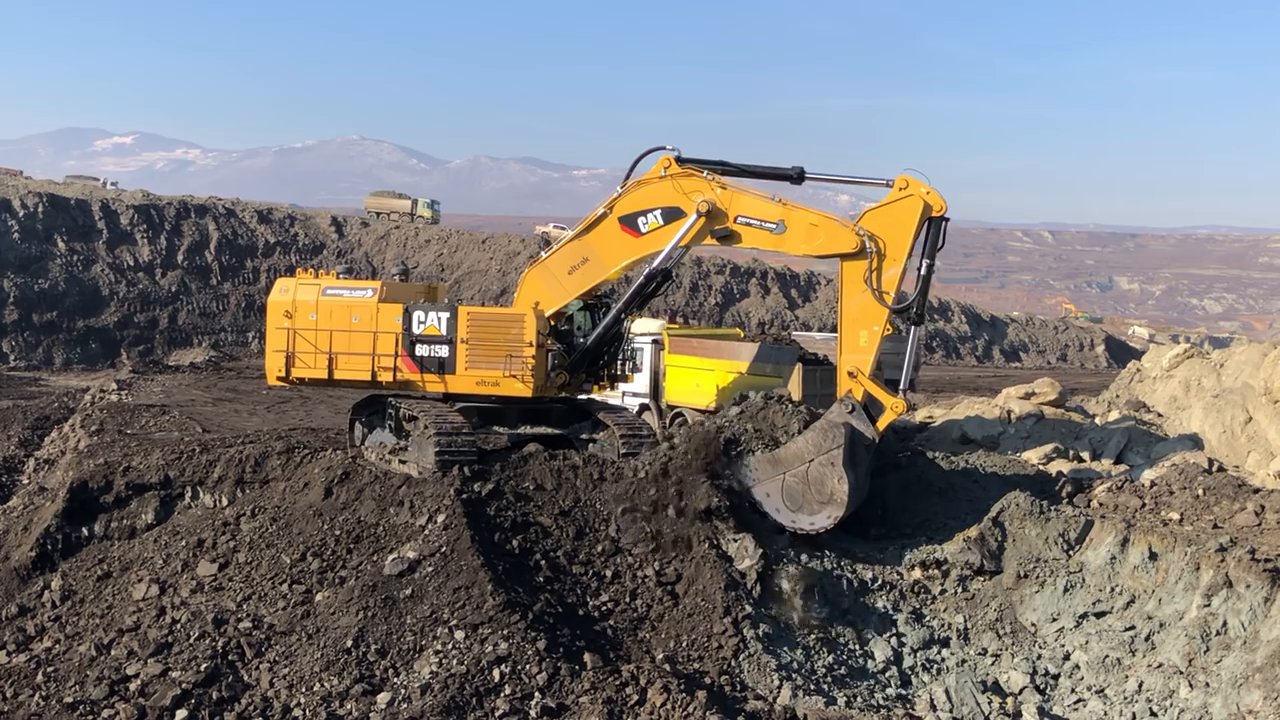full: (723, 385, 884, 541)
